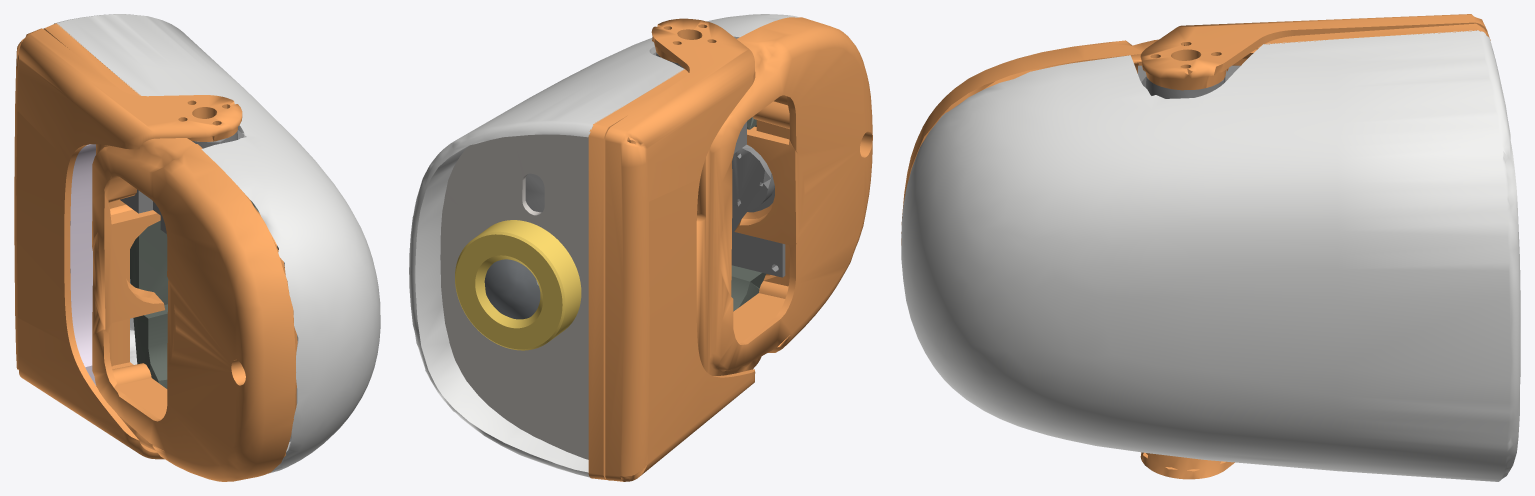
File: jaw_soft.glb
3 views of the same model, side by side, from view 1: azimuth 30°, elevation 25°; view 2: azimuth 150°, elevation 25°; view 3: azimuth 270°, elevation 25° (orthographic). The views are drawn at different scales.
Visible parts, largest first — view 1: jaw_soft_body_11, jaw_soft_body_9, jaw_soft_jaw_1, jaw_soft_jaw_0, jaw_soft_body_0, jaw_soft_body_2; view 2: jaw_soft_body_11, jaw_soft_jaw_1, jaw_soft_body_6, jaw_soft_body_9, jaw_soft_body_10, jaw_soft_body_2, jaw_soft_body_1, jaw_soft_body_0, jaw_soft_body_5; view 3: jaw_soft_body_9, jaw_soft_jaw_1, jaw_soft_body_11, jaw_soft_body_2.
Part boxes in pixels (box(x1,y1,x2,y2)): jaw_soft_body_11: box(43, 23, 297, 481); jaw_soft_body_9: box(54, 14, 380, 473); jaw_soft_jaw_1: box(14, 28, 242, 459); jaw_soft_jaw_0: box(70, 144, 96, 385); jaw_soft_body_0: box(130, 200, 259, 388); jaw_soft_body_2: box(120, 130, 298, 441); jaw_soft_body_11: box(588, 17, 872, 479); jaw_soft_jaw_1: box(605, 18, 755, 481); jaw_soft_body_6: box(440, 134, 588, 459); jaw_soft_body_9: box(409, 14, 798, 477); jaw_soft_body_10: box(455, 220, 581, 350); jaw_soft_body_2: box(653, 52, 785, 277); jaw_soft_body_1: box(484, 259, 540, 319); jaw_soft_body_0: box(731, 117, 766, 311); jaw_soft_body_5: box(525, 173, 544, 212); jaw_soft_body_9: box(901, 30, 1520, 481); jaw_soft_jaw_1: box(1140, 14, 1487, 479); jaw_soft_body_11: box(901, 23, 1490, 245); jaw_soft_body_2: box(1138, 65, 1240, 98).
Bounding box in the file's own units: 0.0593 × 0.0918 × 0.1225.
